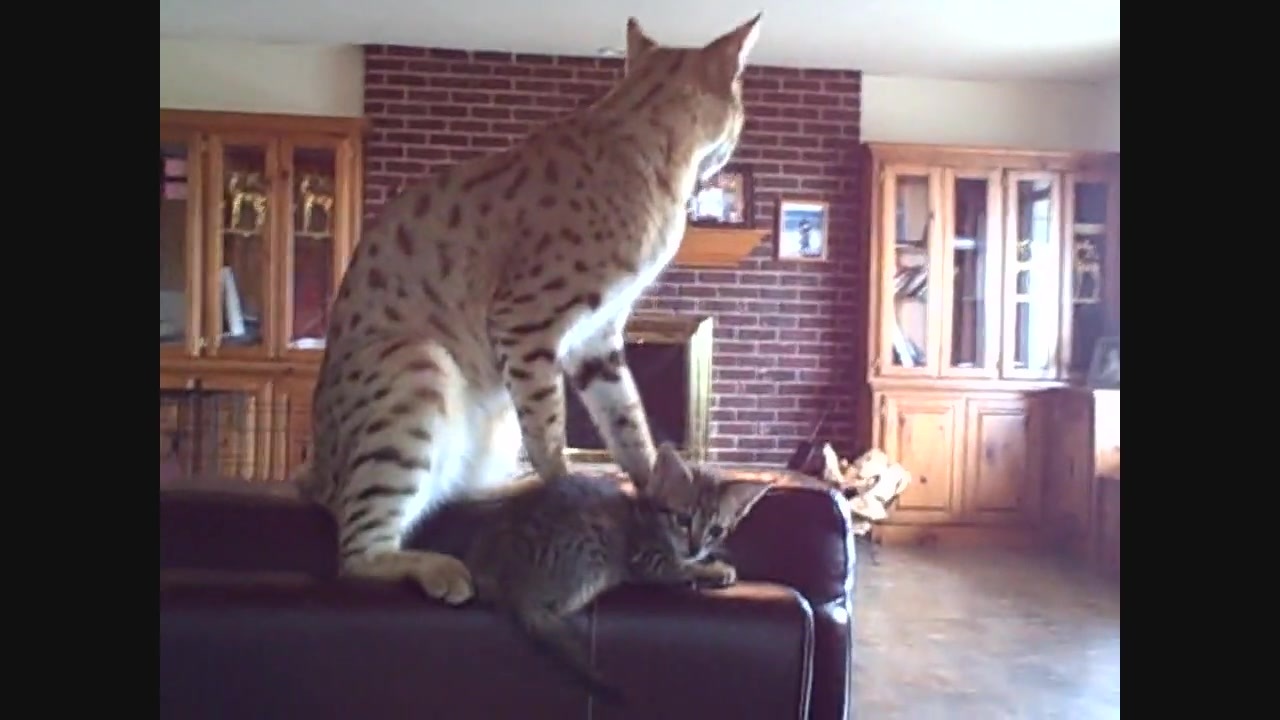cat: (292, 13, 773, 604)
